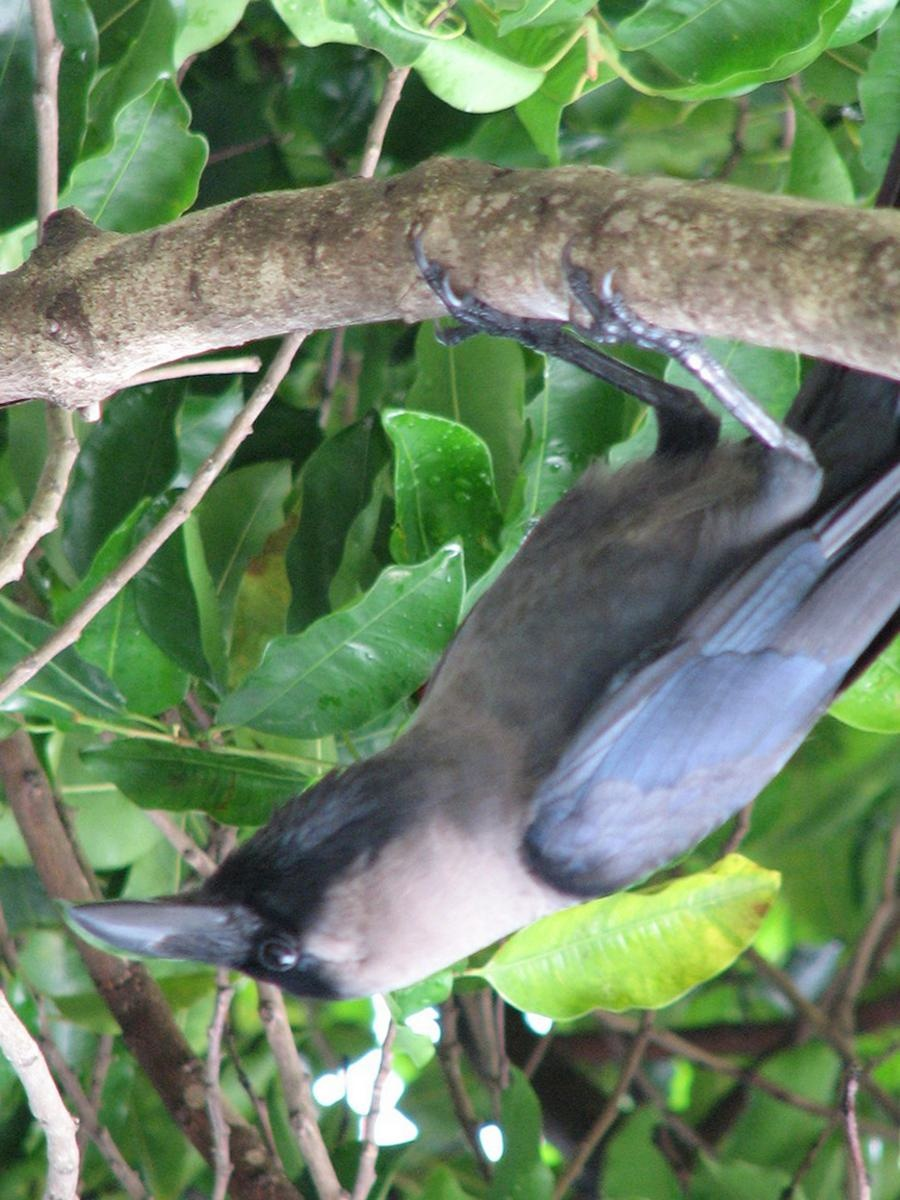crow: (59, 255, 894, 1017)
